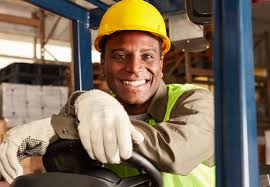Person_wearing_helmet: (88, 0, 174, 63)
